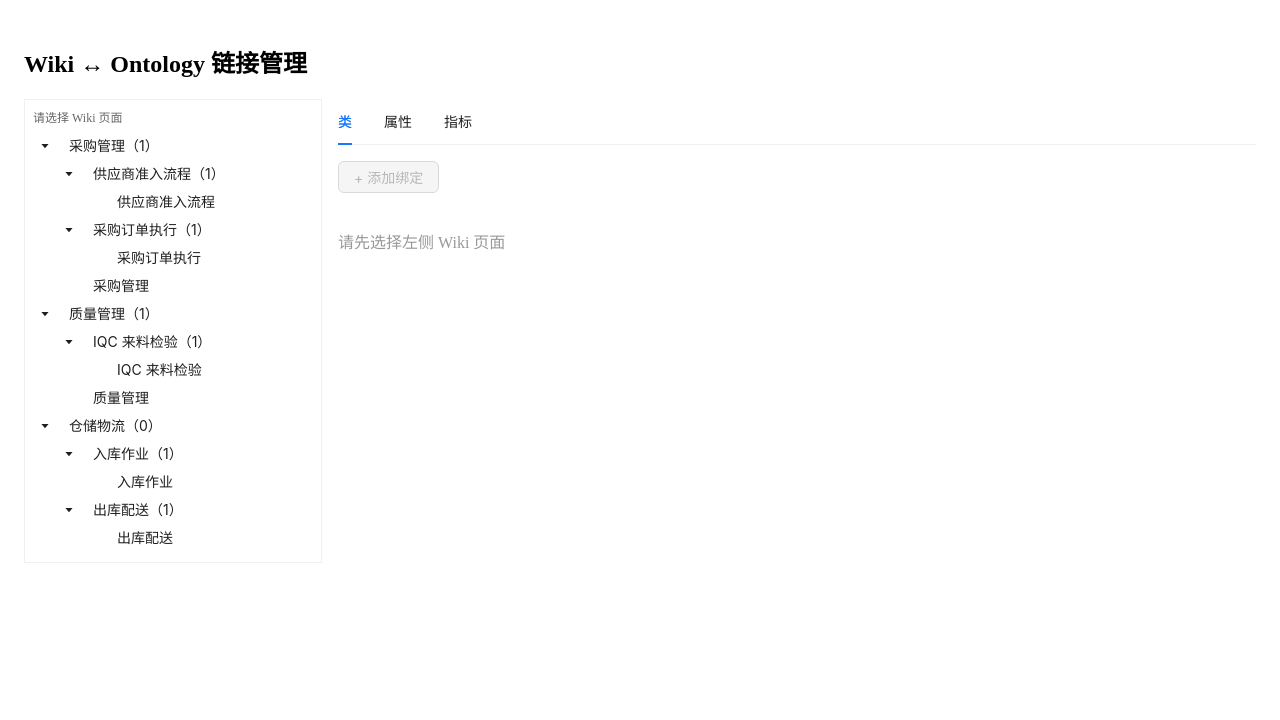
Scenario: WikiLinksPage 交互 › opens the add modal and fetches linkables for the active tab
This screenshot has width=1280, height=720.
Click the element showing "供应商准入流程" at (166, 202), box [109, 190, 223, 214]
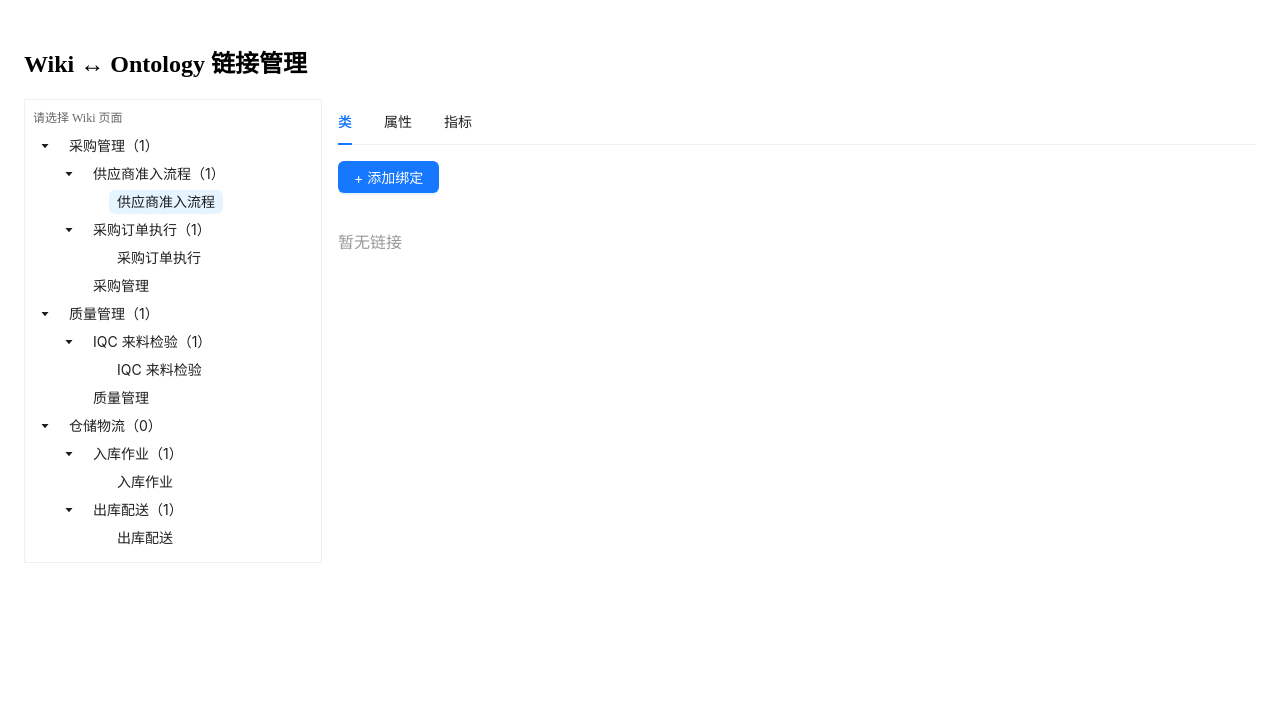
expect the button "+ 添加绑定" is enabled: met
Click the button "+ 添加绑定" at (389, 177), box [338, 161, 439, 193]
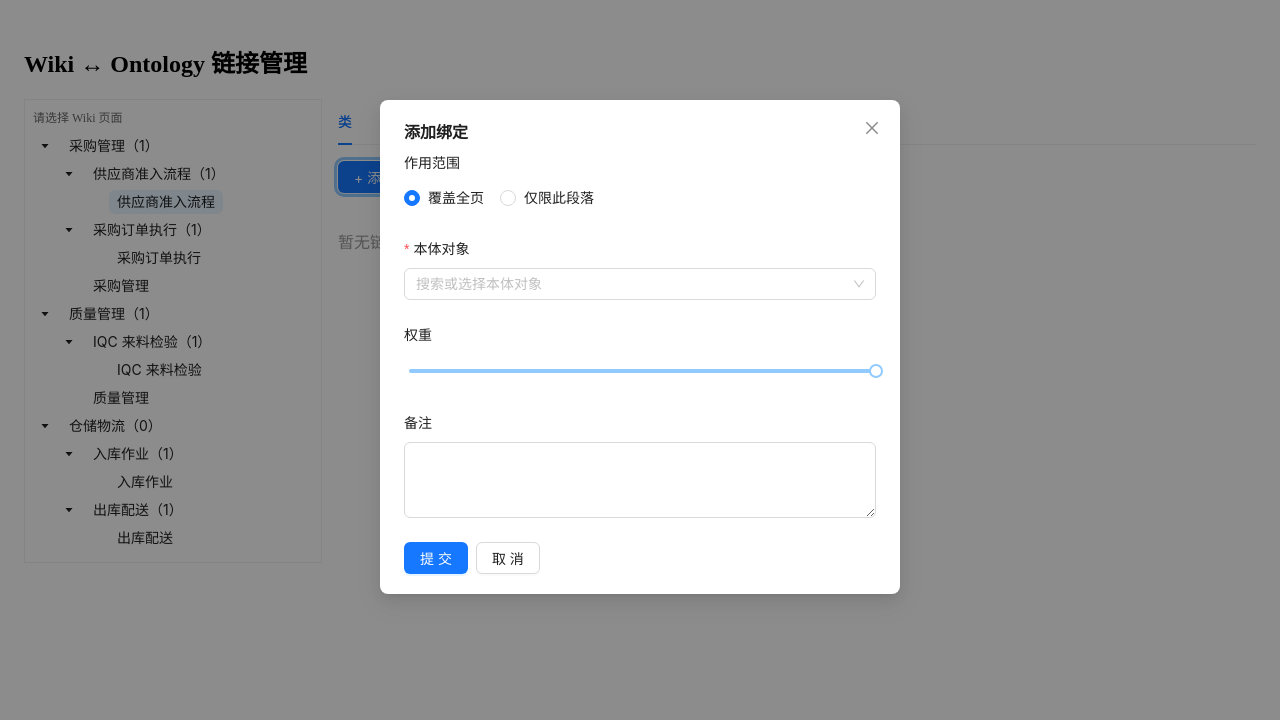
expect the text "添加绑定" is shown: met, box [404, 122, 468, 142]
expect the dropdown labelled "本体对象" is shown: met, box [416, 269, 846, 299]
